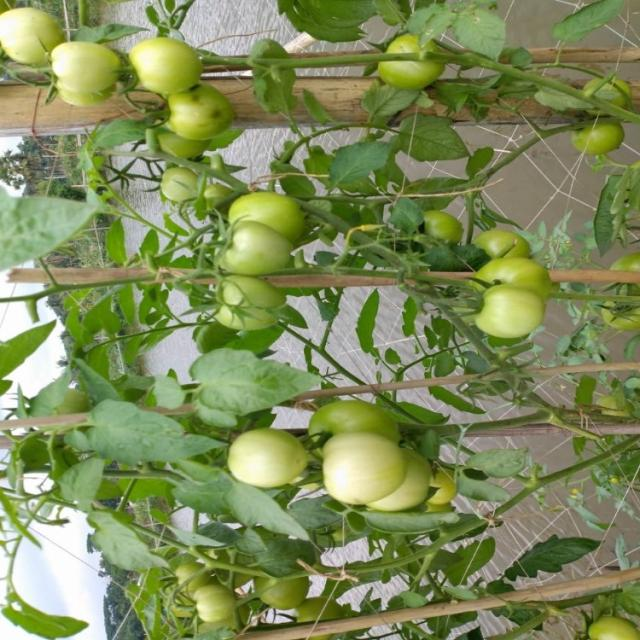tomato: (203, 264, 299, 349), (47, 38, 139, 119), (218, 422, 318, 495), (216, 219, 308, 287), (218, 188, 324, 247), (310, 391, 401, 456), (322, 434, 398, 507), (465, 283, 549, 348), (168, 80, 246, 146), (129, 38, 214, 98), (475, 251, 561, 301), (372, 37, 451, 91), (368, 456, 430, 523), (1, 3, 57, 68), (153, 123, 211, 175), (180, 589, 246, 633), (254, 567, 313, 616), (564, 115, 631, 155), (470, 226, 538, 262), (161, 160, 209, 207), (587, 67, 639, 109), (581, 612, 638, 640), (434, 469, 466, 518), (603, 290, 640, 332), (297, 597, 344, 625), (172, 565, 199, 591)
